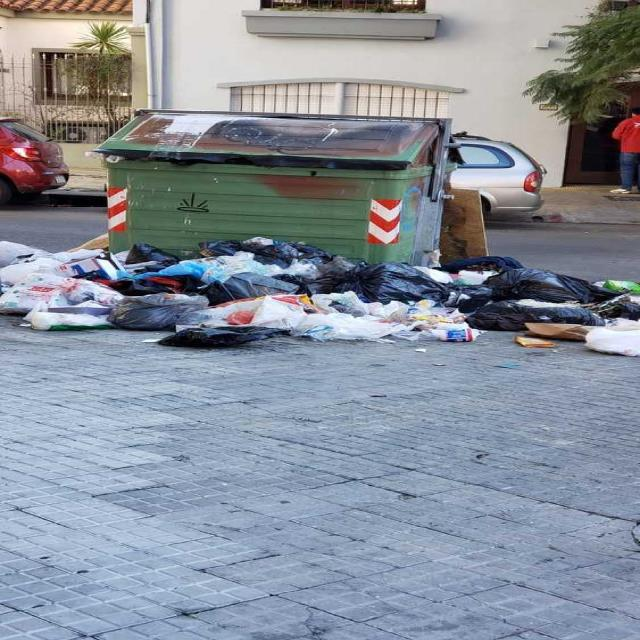garbage: (4, 236, 640, 355)
